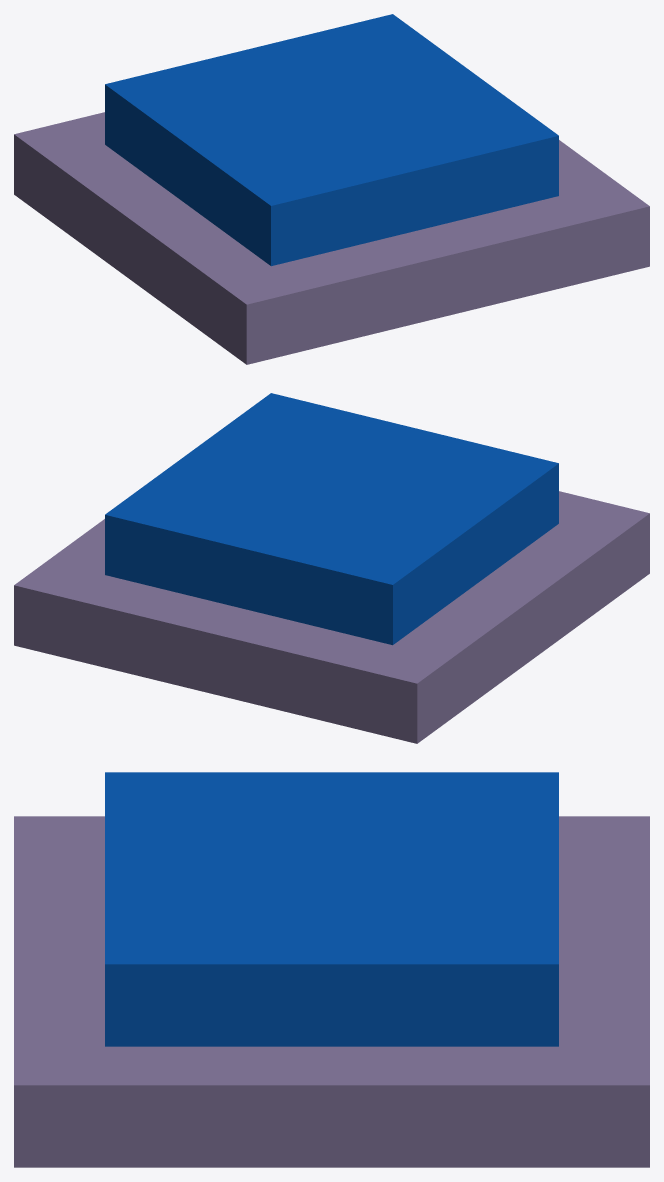
File: button_a_blue.obj
The picture shows the model from 3 angles, top to bottom: view 1: azimuth 30°, elevation 25°; view 2: azimuth 150°, elevation 25°; view 3: azimuth 270°, elevation 25°; orthographic projection. The views are drawn at different scales.
Size of the model in its own units: 0.7 by 0.2 by 0.7.
Materials: 1 (1 with a texture image).
